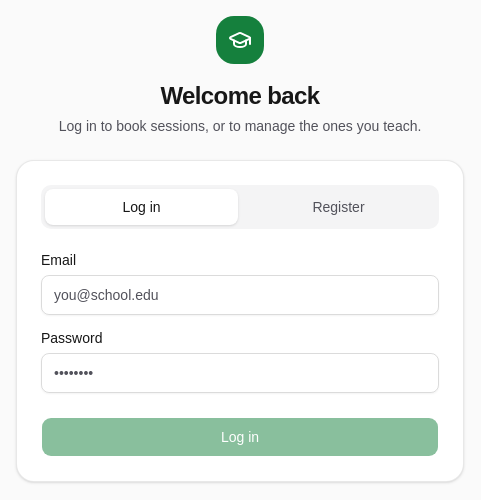
it: LoginPage › keeps the Log in button disabled until both fields are filled
expect the button "Log in" is disabled: met, box top-left (41, 417), bottom-right (439, 457)
Type "juan@dlsl.edu.ph" into the field labelled "Email".
click(240, 295); type("juan@dlsl.edu.ph")  # box top-left (41, 275), bottom-right (439, 315)
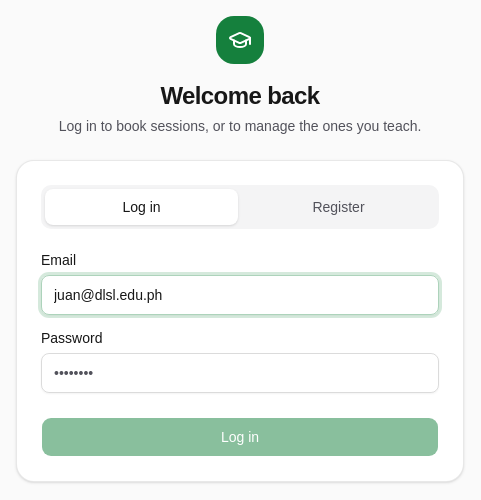
expect the button "Log in" is disabled: met, box top-left (41, 417), bottom-right (439, 457)
Type "secret123" into the password field labelled "Password".
click(240, 373); type("secret123")  # box top-left (41, 353), bottom-right (439, 393)
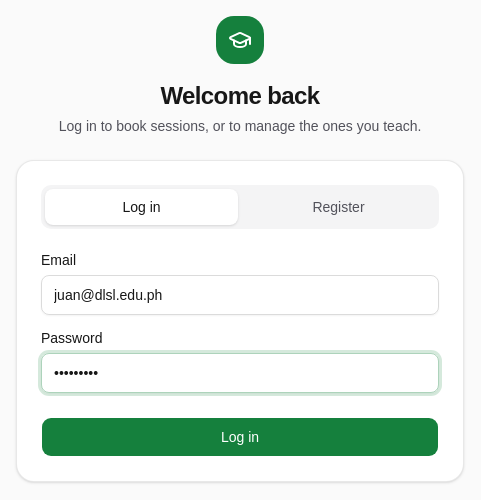
expect the button "Log in" is enabled: met, box top-left (41, 417), bottom-right (439, 457)
